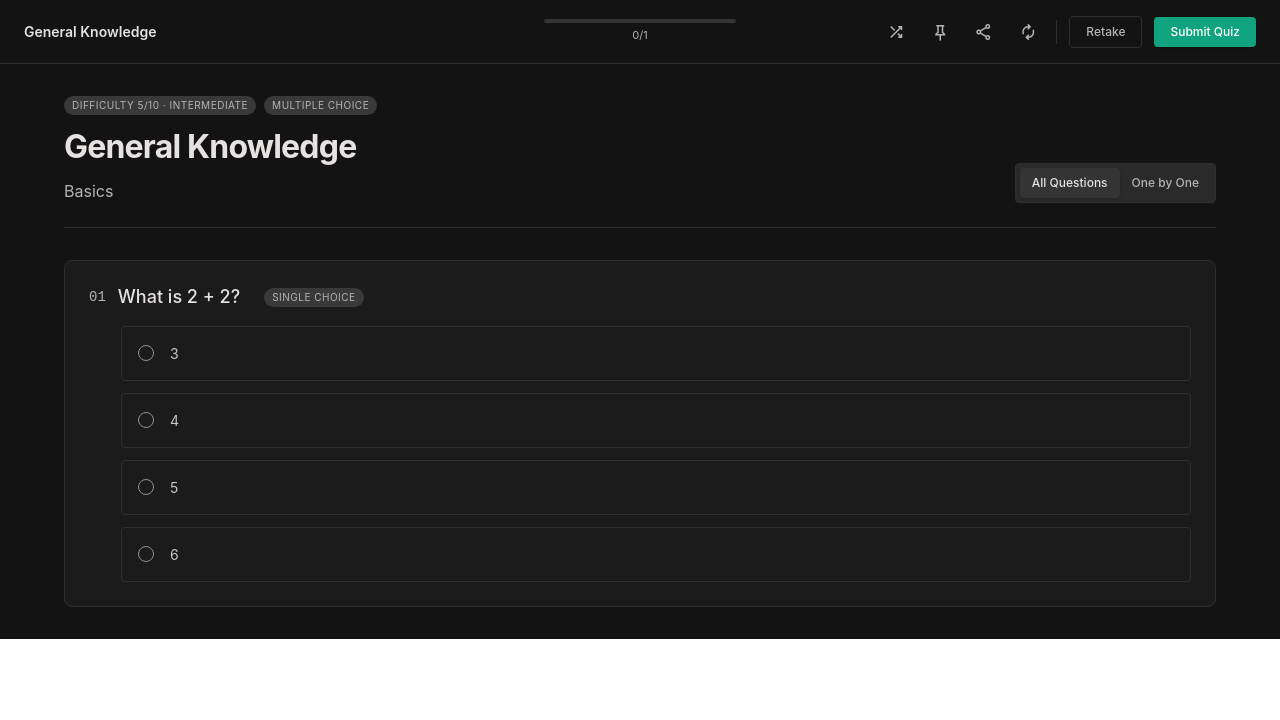
Scenario: QuizPage draft persistence › keeps the draft and shows an error when submit fails
Click the radio button labelled "4": (146, 420) [121,393,1191,448]
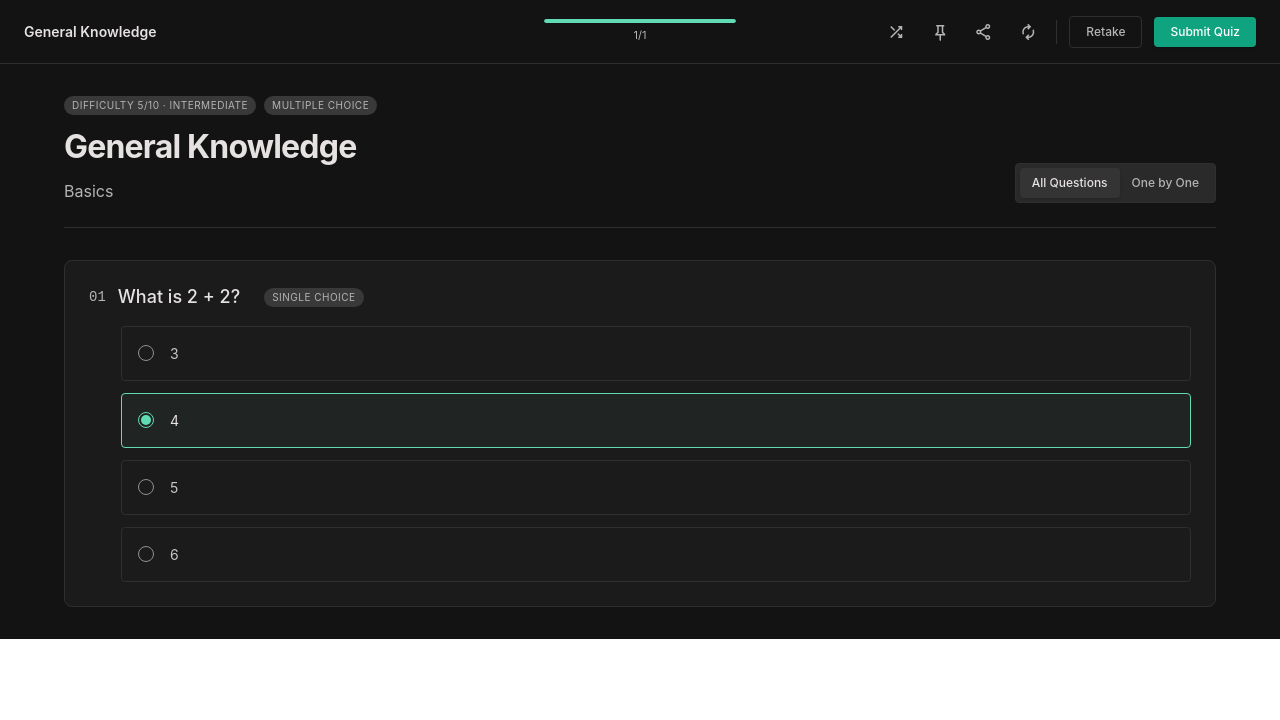
Click the button "Submit Quiz": (1205, 32) [1154,16,1256,46]
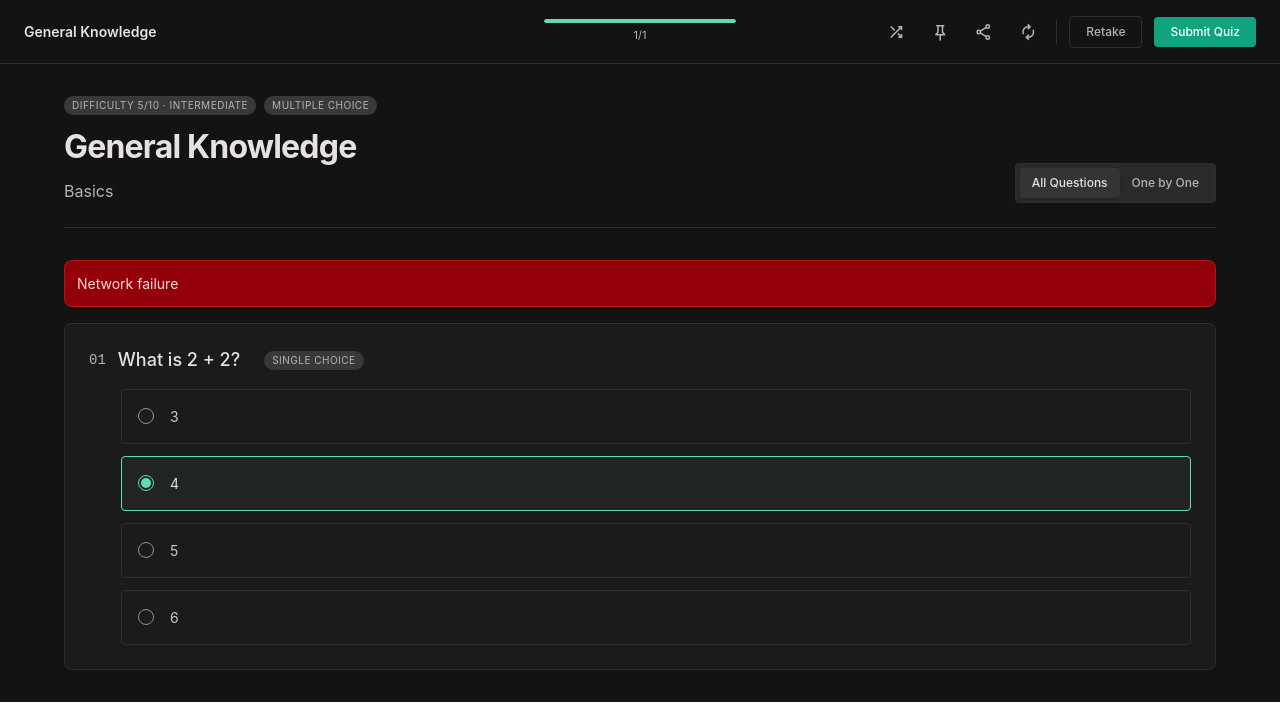
Now the text "Network failure" is shown, box [64,260,1216,307]
